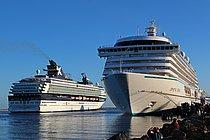Ship: (95, 16, 204, 119), (5, 58, 109, 116)
